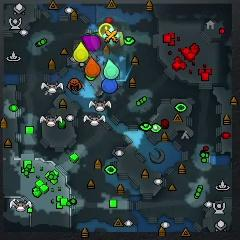Other: (103, 28, 120, 48), (99, 23, 113, 37)
p1: (102, 78, 118, 93)
p2: (104, 60, 119, 79)
p3: (82, 35, 101, 52)
p4: (74, 41, 88, 61)
p5: (85, 56, 100, 77)
x2: (116, 31, 124, 47)
